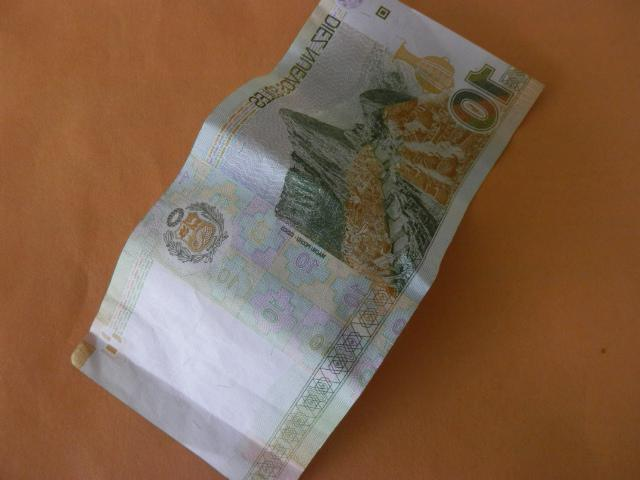B10: (70, 1, 546, 480)
